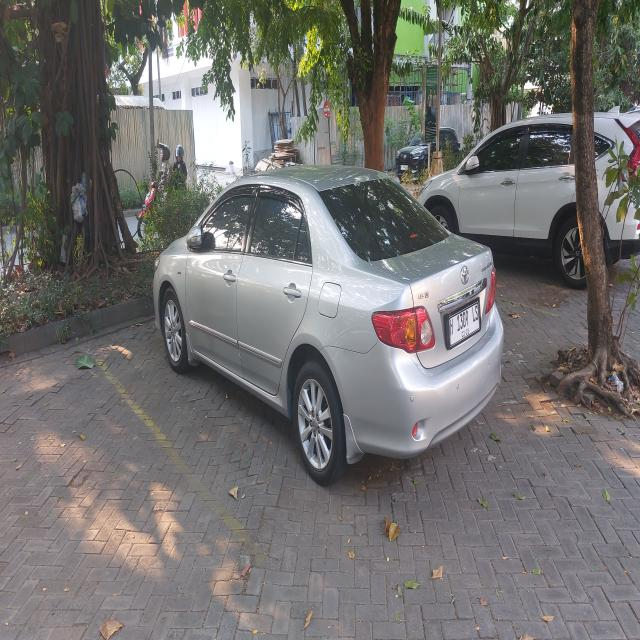occupied: (78, 163, 529, 565)
